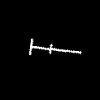double_crochet: (29, 39, 80, 54)
